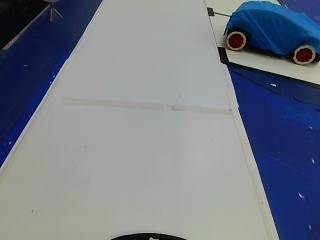car: (217, 0, 318, 63)
